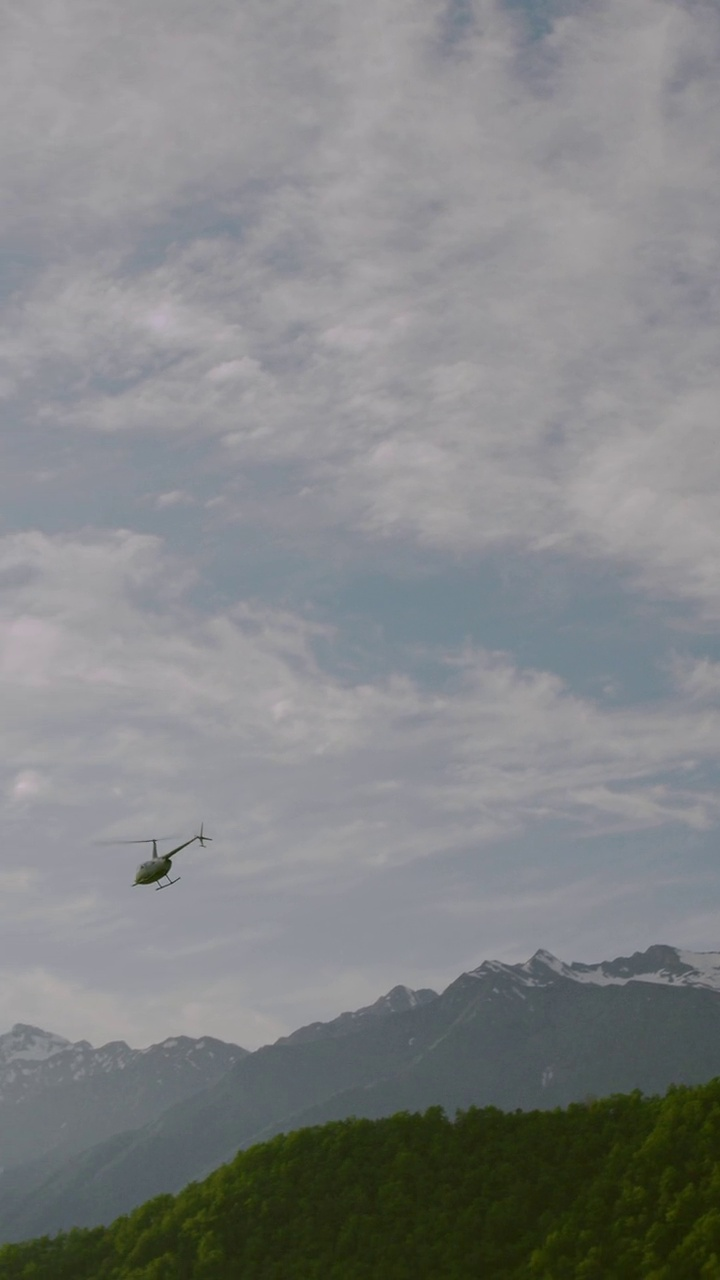heli: (101, 828, 216, 890)
